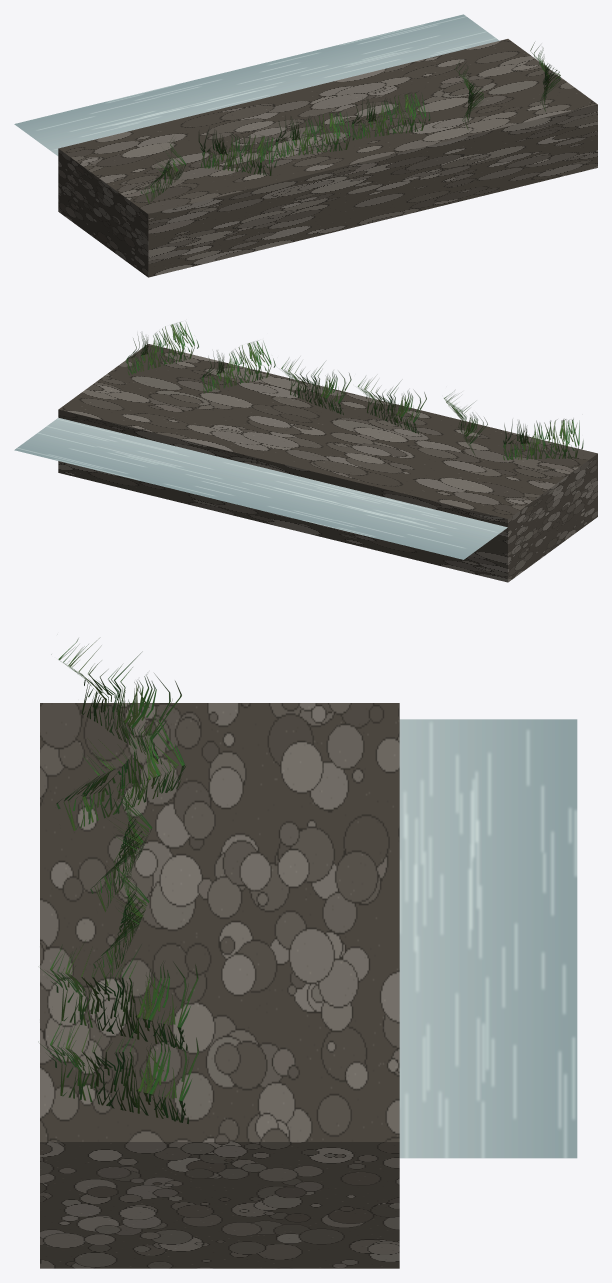
File: dong-lua-bo-ruong-nuoc.glb
3 renders of one model, top to bottom at view 1: azimuth 30°, elevation 25°; view 2: azimuth 150°, elevation 25°; view 3: azimuth 270°, elevation 25°, orthographic. The views are drawn at different scales.
Visible parts, largest first — view 1: dong-lua-bo-ruong-nuoc; view 2: dong-lua-bo-ruong-nuoc; view 3: dong-lua-bo-ruong-nuoc.
Boxes of the visible parts, bbox=[...] form: dong-lua-bo-ruong-nuoc: bbox=[14, 14, 597, 277]; dong-lua-bo-ruong-nuoc: bbox=[14, 322, 597, 582]; dong-lua-bo-ruong-nuoc: bbox=[38, 638, 577, 1268].
Size of the model in its own units: 2.6 by 0.625 by 1.36.
Materials: 3 (3 with a texture image).
